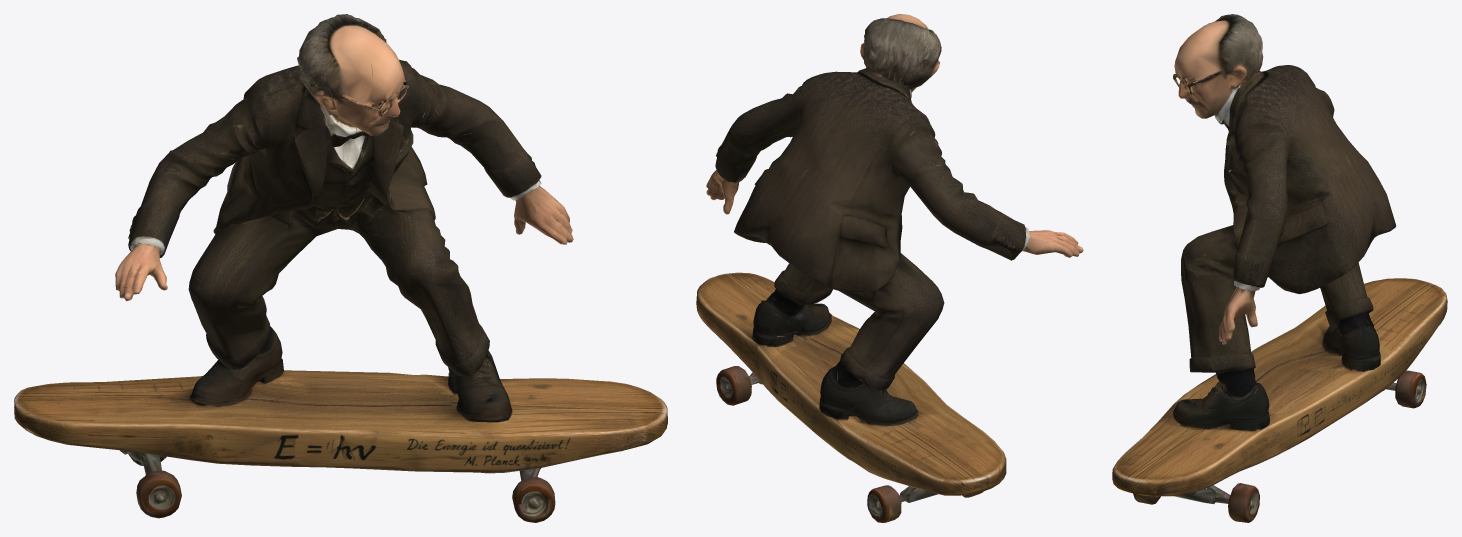
Rendered from Meshy_AI_Quantized_Energy_Ride_0518155427_texture.obj.
3 views of the same model, side by side, from view 1: azimuth 30°, elevation 25°; view 2: azimuth 150°, elevation 25°; view 3: azimuth 270°, elevation 25° (orthographic). The views are drawn at different scales.
Visible parts, largest first — view 1: Meshy_AI_Quantized_Energy_Ride_0518155427_texture; view 2: Meshy_AI_Quantized_Energy_Ride_0518155427_texture; view 3: Meshy_AI_Quantized_Energy_Ride_0518155427_texture.
Part boxes in pixels (x1,y1,x2,y2): Meshy_AI_Quantized_Energy_Ride_0518155427_texture: (14,14,667,522); Meshy_AI_Quantized_Energy_Ride_0518155427_texture: (696,14,1083,522); Meshy_AI_Quantized_Energy_Ride_0518155427_texture: (1112,14,1447,522).
Bounding box in the file's own units: 1.04 × 1 × 0.7168.
